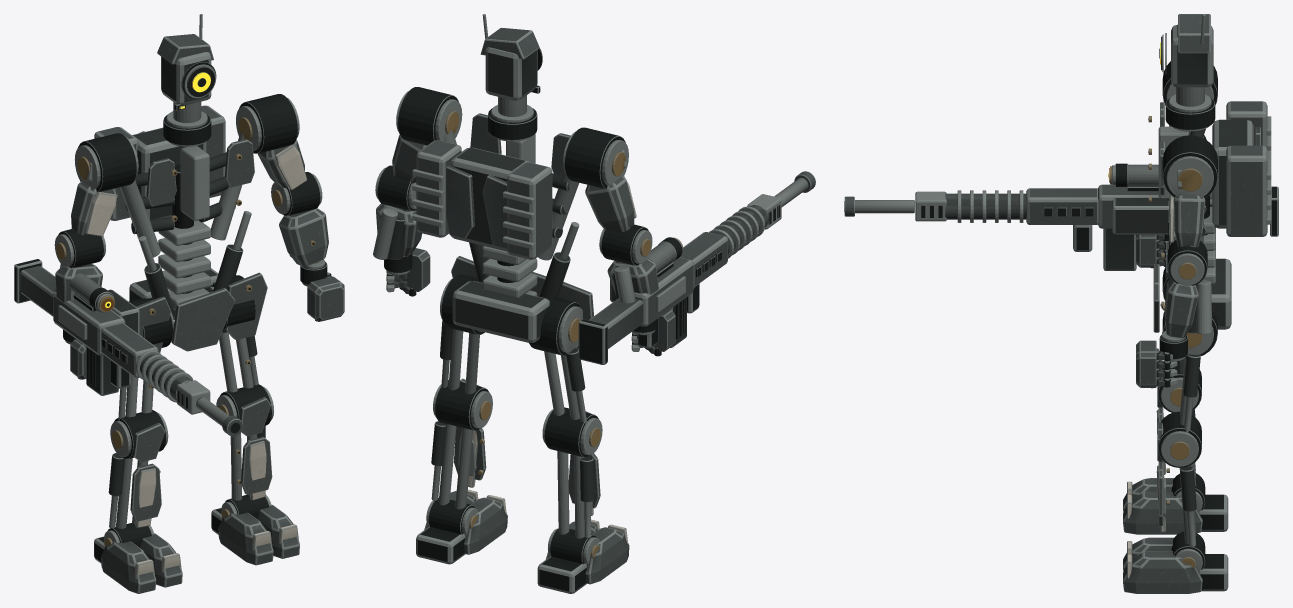
The model's file is ranged-t4-specter.glb.
3 renders of one model, left to right at view 1: azimuth 30°, elevation 25°; view 2: azimuth 150°, elevation 25°; view 3: azimuth 270°, elevation 25°, orthographic. The views are drawn at different scales.
Parts seen in each view (by area): view 1: chest__metal, pelvis__metal, weaponR__metal, weaponR__clay, pelvis__clay, chest__clay, ankleL__clay, ankleR__clay, kneeR__metal, head__metal, shoulderR__metal, shoulderL__metal (+17 smaller); view 2: pelvis__metal, chest__clay, chest__metal, weaponR__metal, weaponR__clay, kneeL__metal, kneeR__metal, shoulderR__metal, head__metal, shoulderL__metal, ankleL__metal, ankleR__metal (+16 smaller); view 3: weaponR__metal, weaponR__clay, chest__clay, chest__metal, ankleL__clay, kneeL__metal, pelvis__metal, shoulderL__metal, ankleR__clay, head__metal, elbowL__metal, ankleL__metal (+12 smaller).
Part boxes in pixels (x1,y1,x2,y2): chest__metal: (119,111,244,257); pelvis__metal: (129,164,255,347); weaponR__metal: (14,259,240,433); weaponR__clay: (20,266,243,436); pelvis__clay: (136,272,267,352); chest__clay: (94,105,254,220); ankleL__clay: (218,505,299,565); ankleR__clay: (101,533,182,593); kneeR__metal: (108,410,168,528); head__metal: (161,14,216,122); shoulderR__metal: (72,133,138,229); shoulderL__metal: (236,94,299,153); pelvis__metal: (440,222,582,355); chest__clay: (416,113,570,259); chest__metal: (412,104,578,260); weaponR__metal: (578,177,808,364); weaponR__clay: (589,171,815,348); kneeL__metal: (431,380,492,509); kneeR__metal: (542,407,602,538); shoulderR__metal: (563,127,630,229); head__metal: (482,14,542,116); shoulderL__metal: (396,87,462,145); ankleL__metal: (416,498,478,564); ankleR__metal: (537,528,599,593); weaponR__metal: (844,163,1278,270); weaponR__clay: (844,184,1212,228); chest__clay: (1160,101,1267,236); chest__metal: (1148,94,1271,243); ankleL__clay: (1123,537,1202,593); kneeL__metal: (1158,411,1201,546); pelvis__metal: (1160,195,1231,357); shoulderL__metal: (1162,135,1217,246); ankleR__clay: (1123,478,1202,534); head__metal: (1159,14,1213,106); elbowL__metal: (1162,240,1211,334); ankleL__metal: (1171,531,1228,591).
Bounding box in the file's own units: 2.33 × 4.4 × 3.15.
12 materials, 10 textured.
